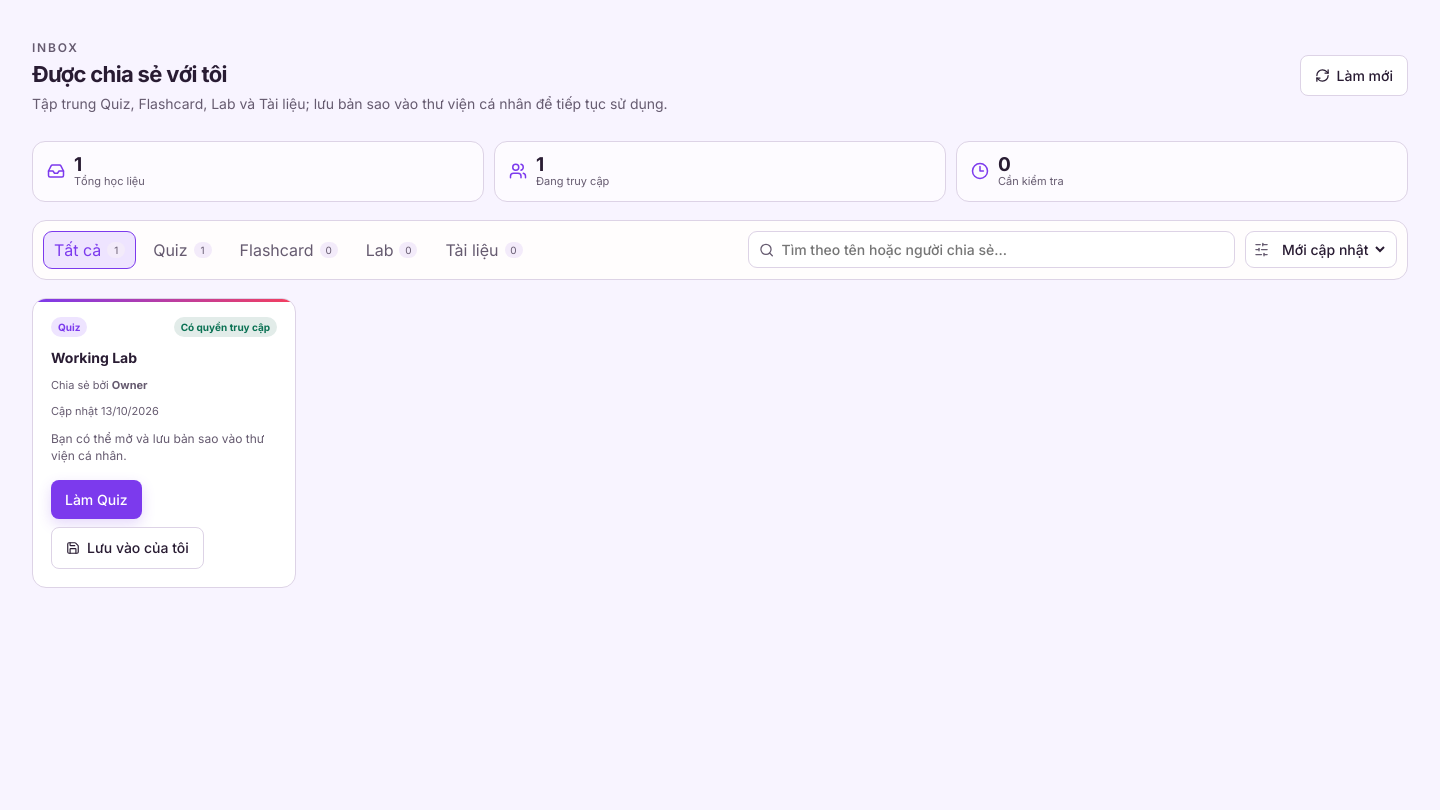
Test: validates a malformed quiz session before storing it in render state
Click the button "Làm Quiz" at (96, 500), box [51,480,142,519]
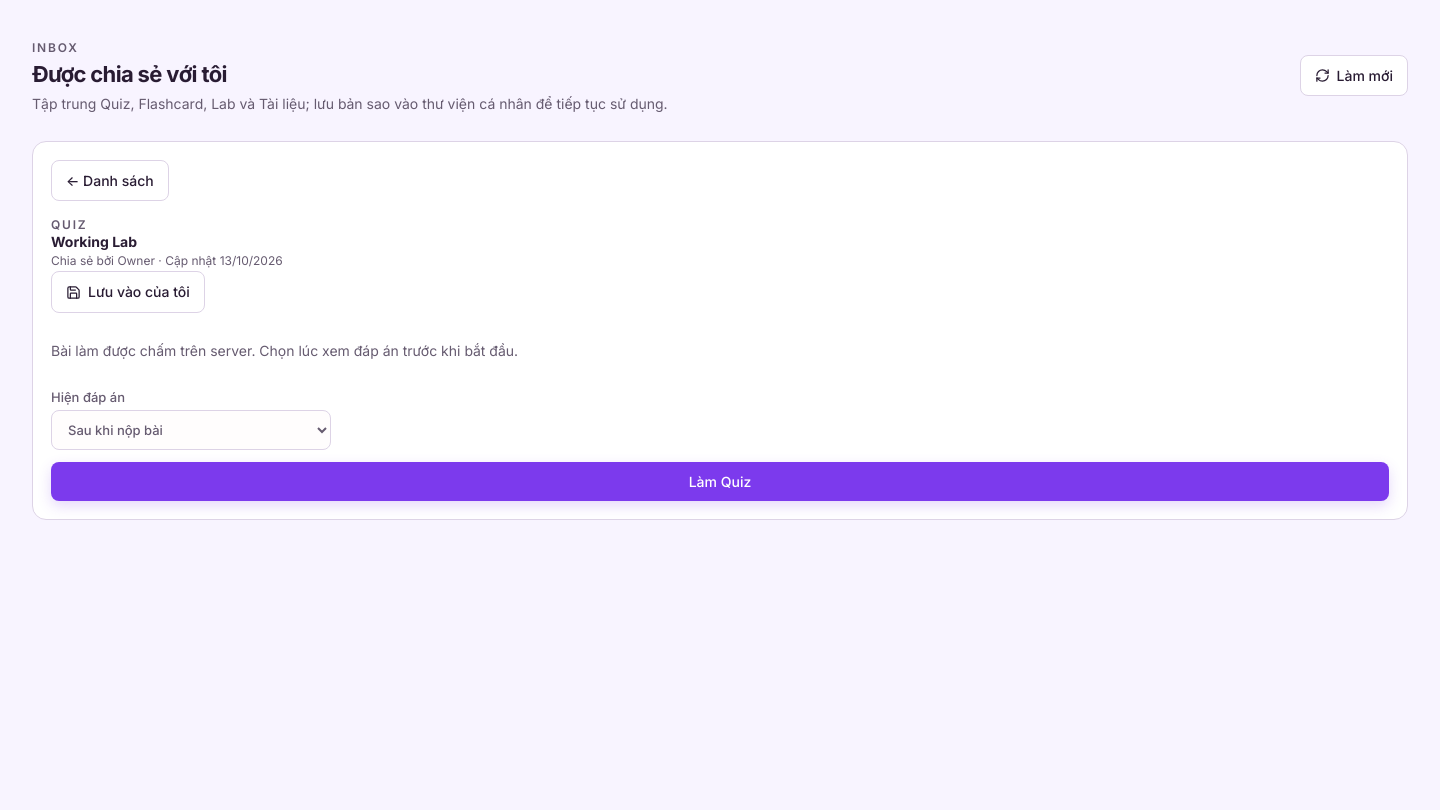
Click the button "Làm Quiz" at (720, 482), box [51,462,1389,501]
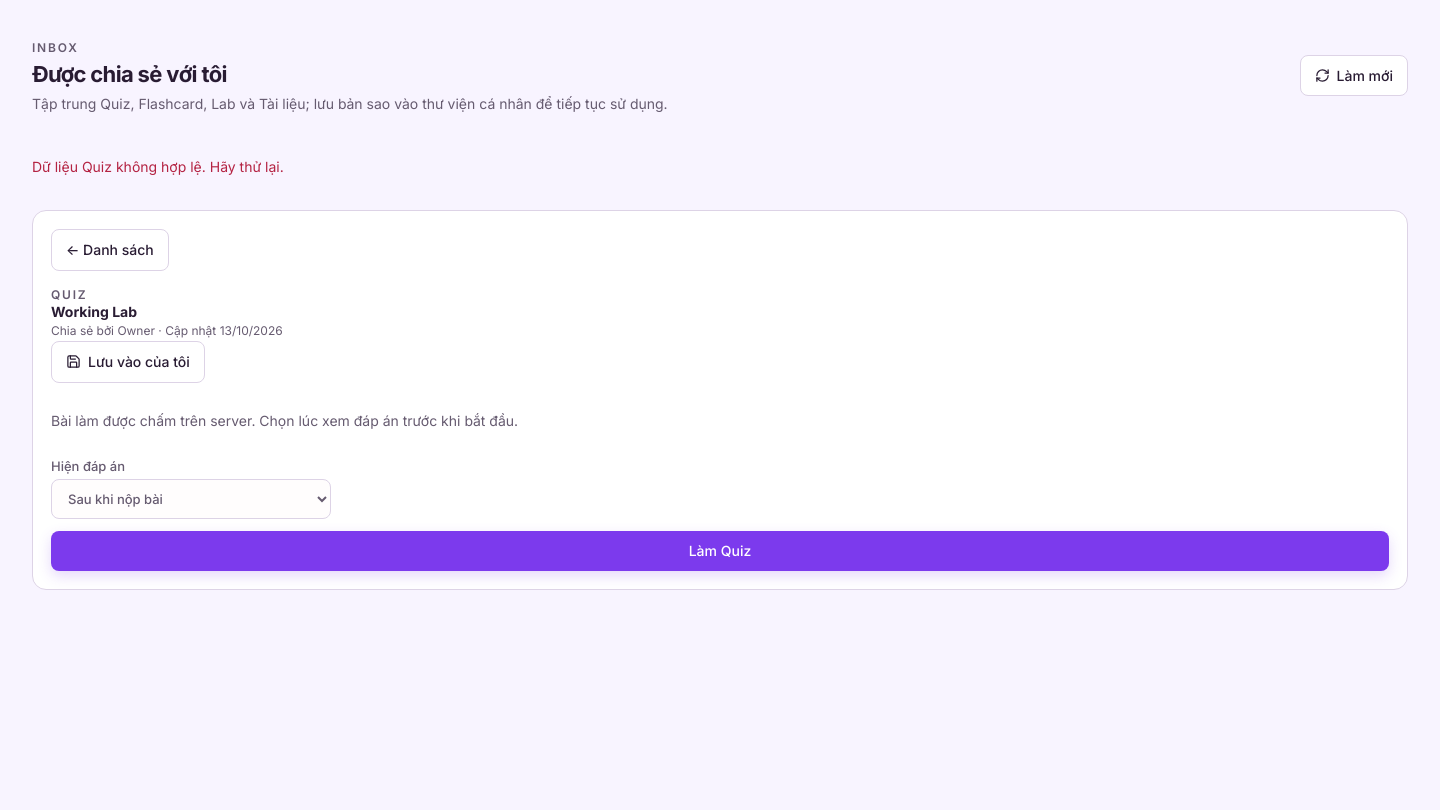
expect the element with class "shared-learning-launch" is shown: met, box [51,395,1389,571]
expect the message "Dữ liệu Quiz không hợp lệ. Hãy thử lại." is shown: met, box [32,158,284,175]
